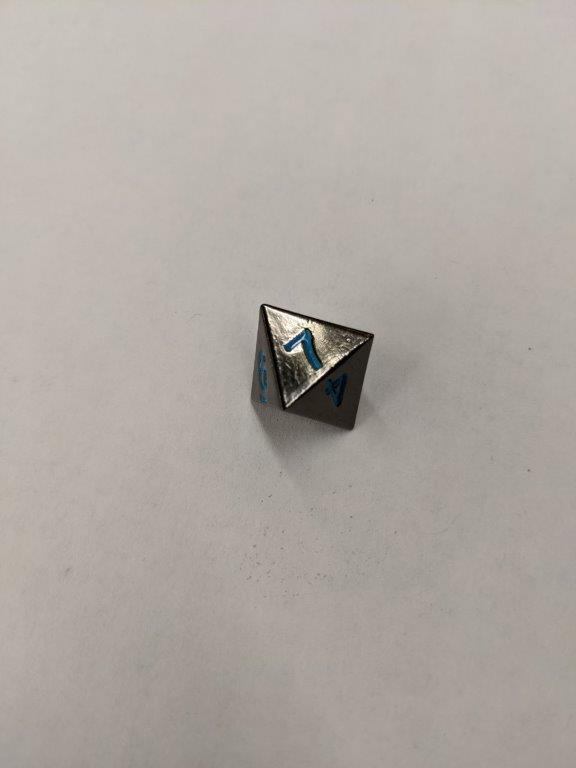d8-7: (249, 303, 373, 435)
